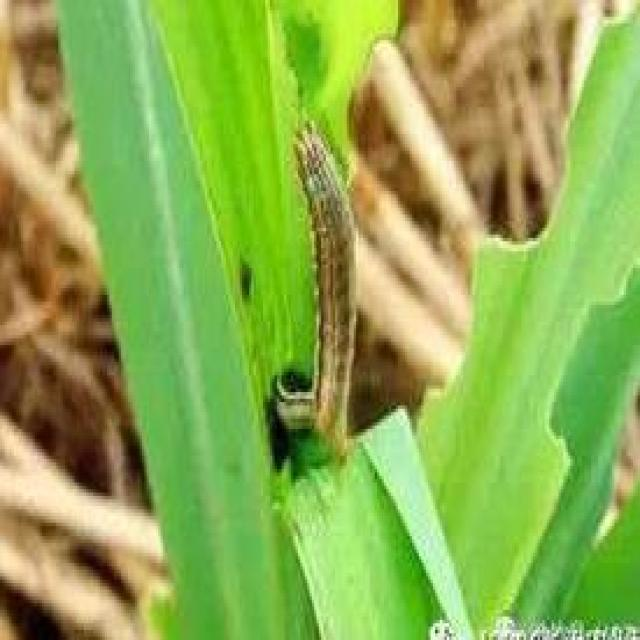pest: (298, 115, 363, 451)
